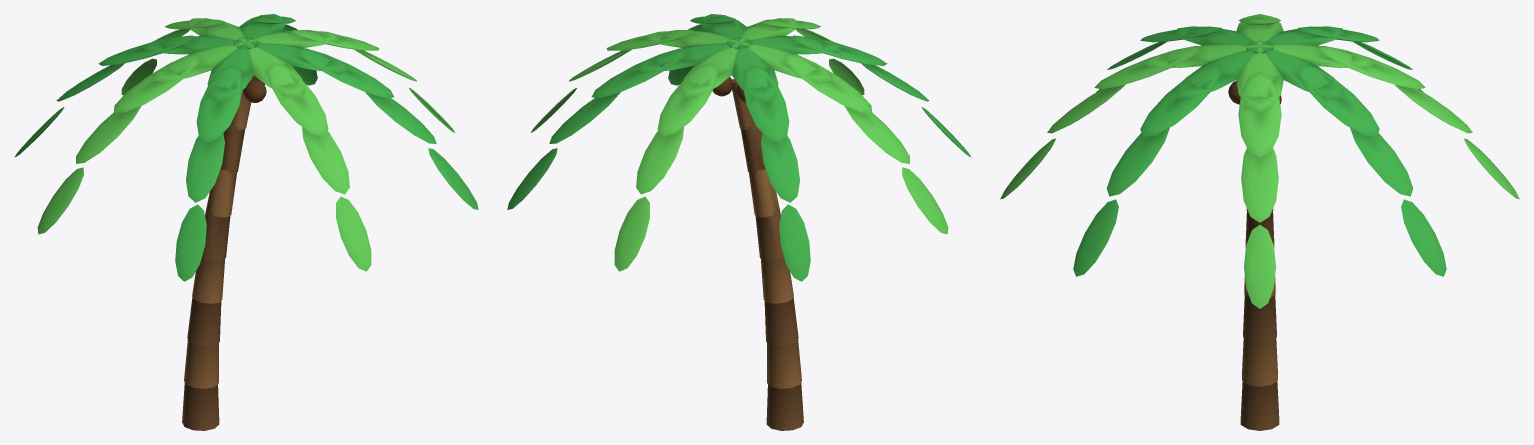
The model's file is palm.glb.
3 renders of one model, left to right at view 1: azimuth 30°, elevation 25°; view 2: azimuth 150°, elevation 25°; view 3: azimuth 270°, elevation 25°, orthographic. The views are drawn at different scales.
Visible parts, largest first — view 1: palm; view 2: palm; view 3: palm.
Boxes of the visible parts, left/top/right/bottom form: palm: left=15, top=14, right=478, bottom=430; palm: left=507, top=14, right=970, bottom=430; palm: left=1000, top=14, right=1519, bottom=430.
Size of the model in its own units: 8.19 by 6.96 by 8.19.
